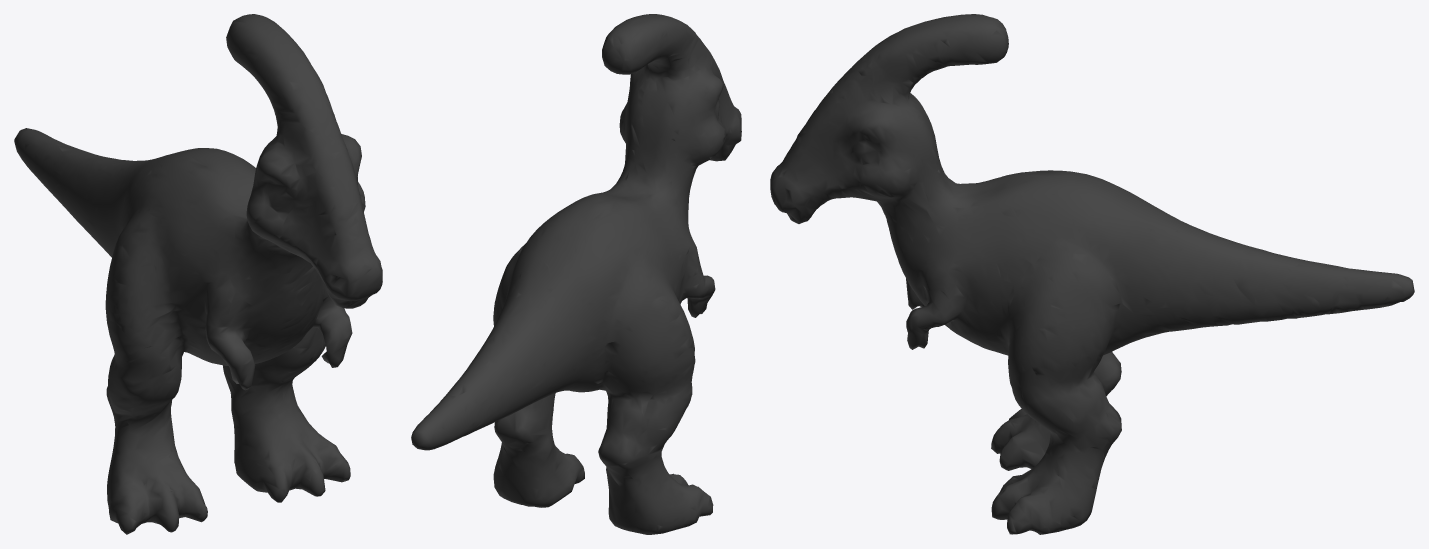
The model's file is parasaurolophus.glb.
The picture shows the model from 3 angles, left to right: view 1: azimuth 30°, elevation 25°; view 2: azimuth 150°, elevation 25°; view 3: azimuth 270°, elevation 25°; orthographic projection. The views are drawn at different scales.
Visible parts, largest first — view 1: geometry_0; view 2: geometry_0; view 3: geometry_0.
Part boxes in pixels (bbox=[...]): geometry_0: bbox=[14, 14, 382, 534]; geometry_0: bbox=[411, 14, 741, 534]; geometry_0: bbox=[770, 14, 1414, 534].
Bounding box in the file's own units: 0.3814 × 0.8072 × 1.
1 material, 1 textured.
